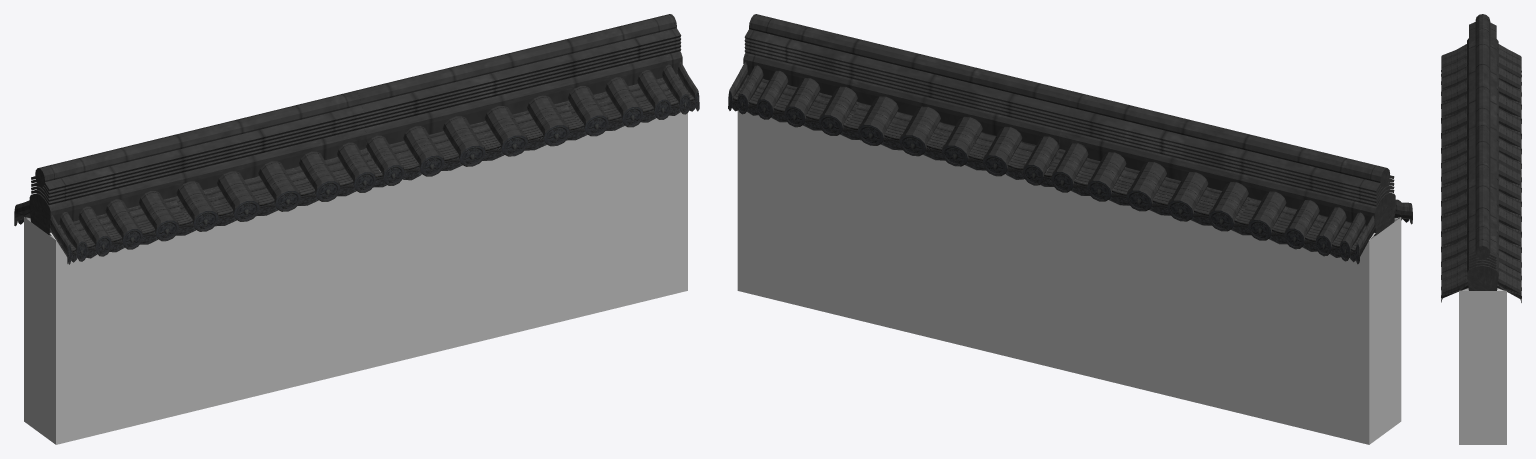
File: SM_JSH_HG_StoneWallH_Splines_1.fbx
The picture shows the model from 3 angles, left to right: view 1: azimuth 30°, elevation 25°; view 2: azimuth 150°, elevation 25°; view 3: azimuth 270°, elevation 25°; orthographic projection. The views are drawn at different scales.
Visible parts, largest first — view 1: SM_JSH_HG_StoneWallH_Splines_1; view 2: SM_JSH_HG_StoneWallH_Splines_1; view 3: SM_JSH_HG_StoneWallH_Splines_1.
Part boxes in pixels (x1,y1,x2,y2): SM_JSH_HG_StoneWallH_Splines_1: (14, 14, 699, 444); SM_JSH_HG_StoneWallH_Splines_1: (728, 14, 1412, 444); SM_JSH_HG_StoneWallH_Splines_1: (1441, 14, 1521, 444).
Size of the model in its own units: 445 by 65.49 by 178.
